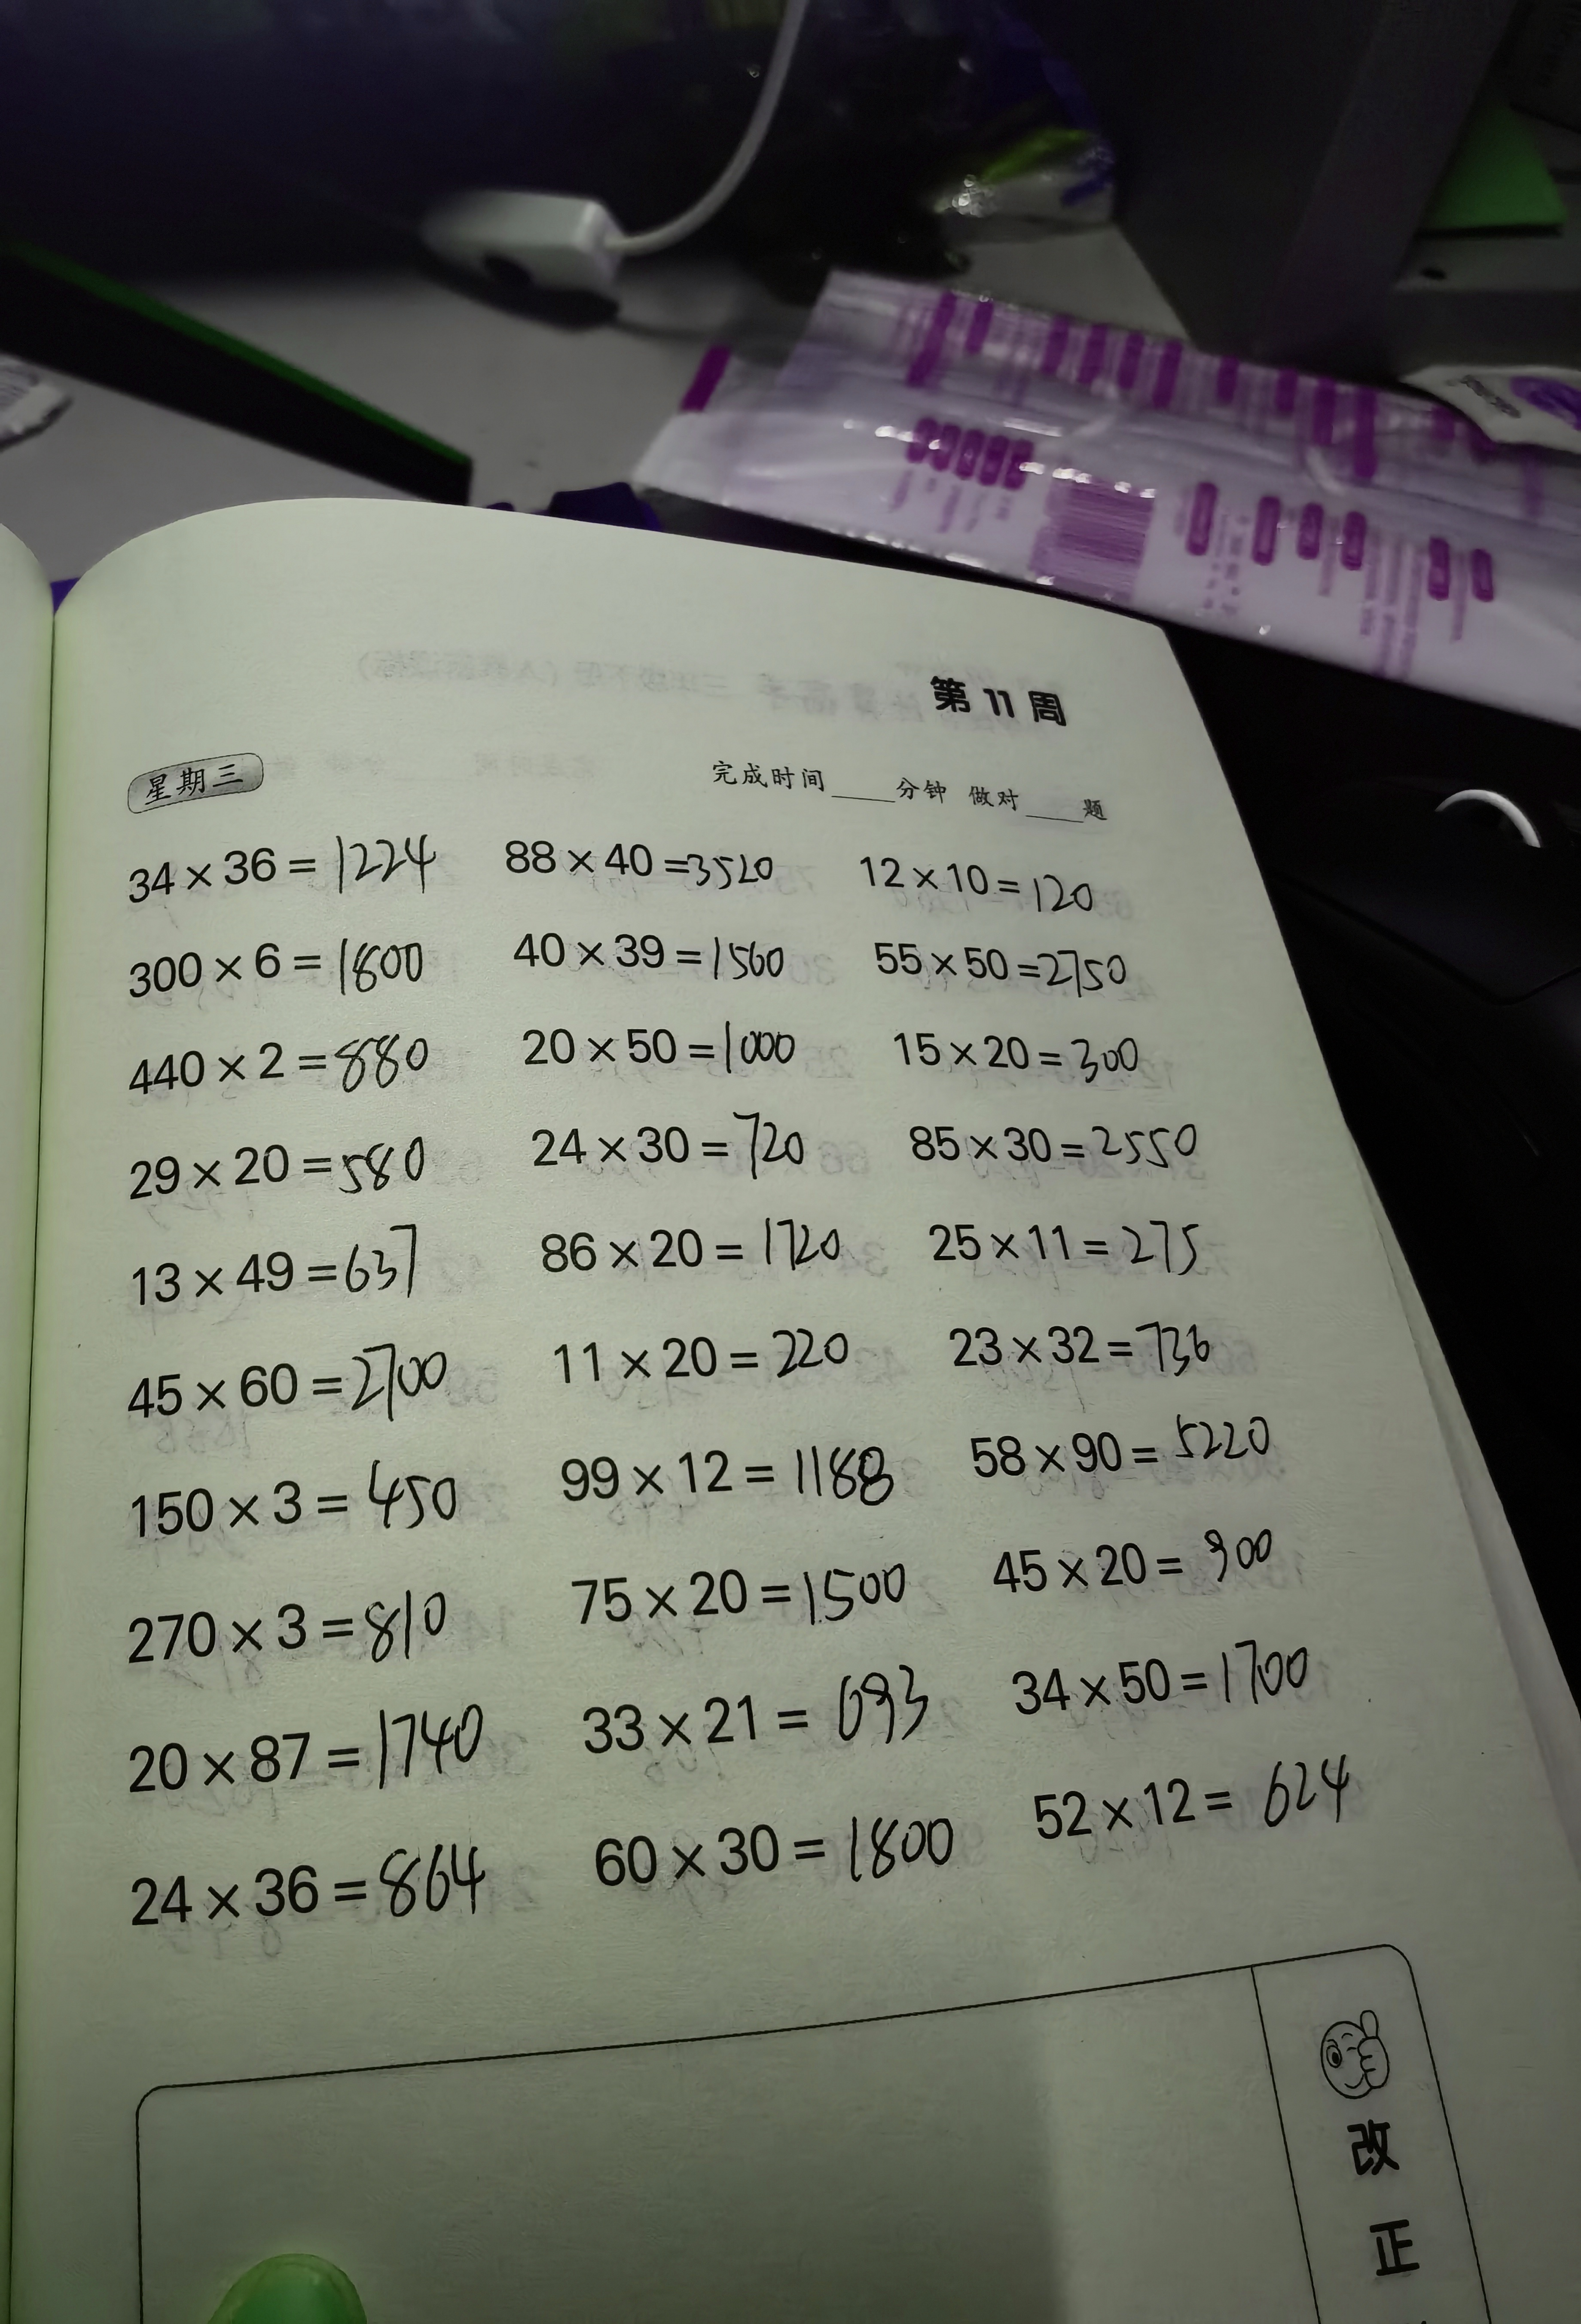equation: (547, 1655, 948, 1772), (573, 1788, 978, 1897), (131, 1819, 508, 1936), (86, 1705, 528, 1798), (963, 1391, 1285, 1505), (558, 1542, 942, 1634), (1027, 1754, 1359, 1860), (120, 1579, 475, 1676), (545, 1304, 905, 1399), (540, 1424, 921, 1514), (992, 1493, 1290, 1602), (1008, 1631, 1320, 1733), (116, 1203, 438, 1302), (108, 1459, 489, 1542), (918, 1189, 1221, 1290), (94, 826, 476, 903), (850, 1004, 1172, 1096), (109, 1334, 441, 1422), (847, 923, 1198, 1006), (891, 1096, 1226, 1182), (109, 1117, 446, 1200), (850, 821, 1119, 923), (92, 1025, 457, 1099), (101, 932, 448, 1009), (499, 907, 805, 993), (501, 819, 819, 902), (944, 1301, 1244, 1382), (512, 1106, 831, 1182), (506, 1016, 806, 1091), (535, 1221, 858, 1274)
